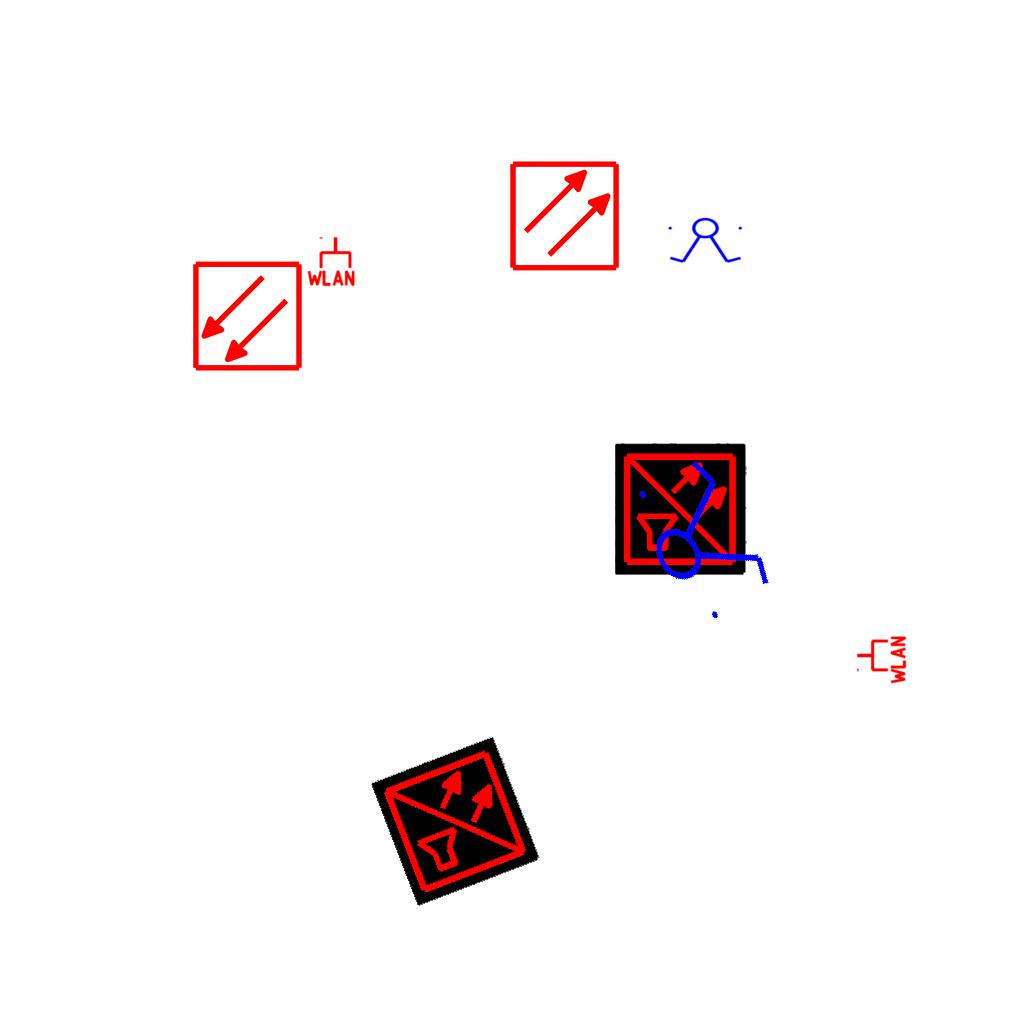OKW_Multisensormelder_(Kombination_optischer_Rauch-Kahlenmonoxid_Waerme-Melder): (370, 735, 542, 907), (615, 443, 747, 575)
RMO_Rauchmelder_optischer: (508, 159, 621, 272), (191, 260, 304, 373)
Serienschalter: (615, 443, 785, 637), (664, 217, 748, 265)
WLAN: (855, 634, 907, 686), (305, 235, 357, 287)
